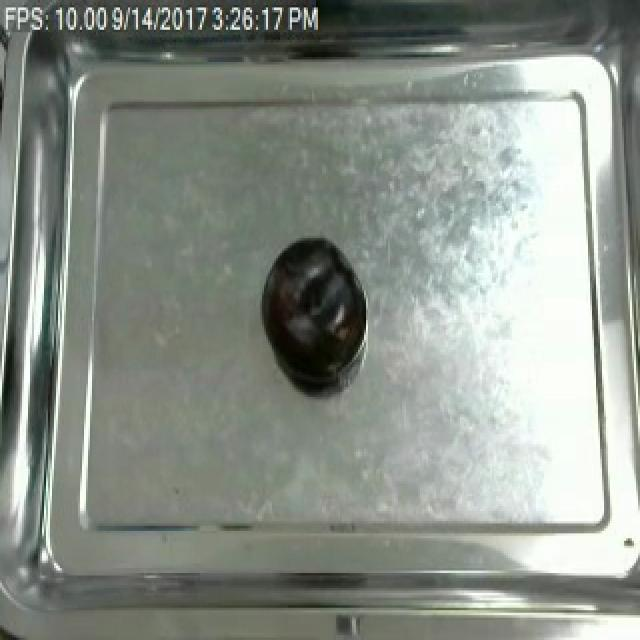Fruit: (256, 231, 362, 387)
